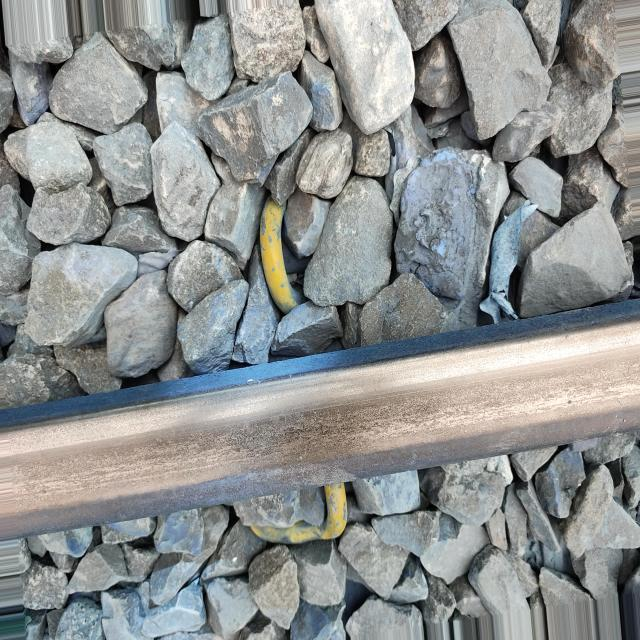Good Fasteners: (249, 482, 348, 544), (259, 197, 298, 313)
